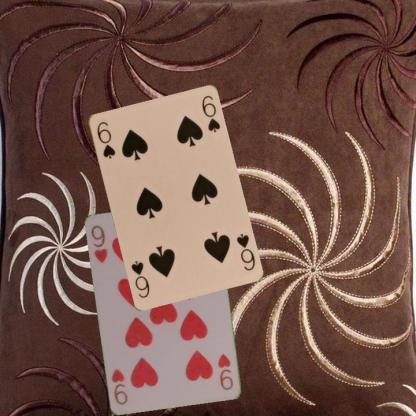6s: (93, 118, 116, 160), (233, 231, 256, 272)
9h: (88, 222, 110, 264), (215, 350, 235, 392)
